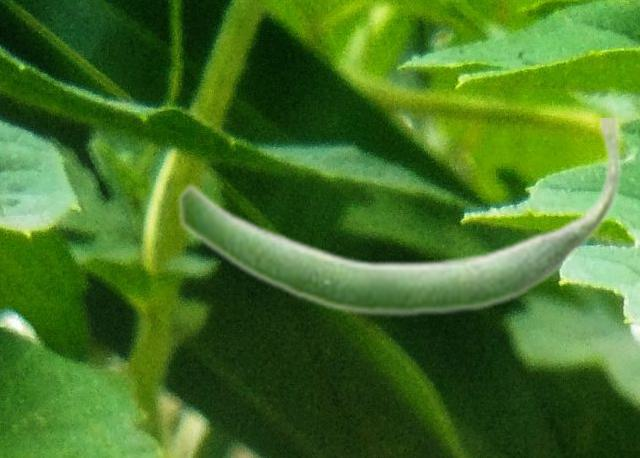french_bean: (176, 118, 622, 318)
